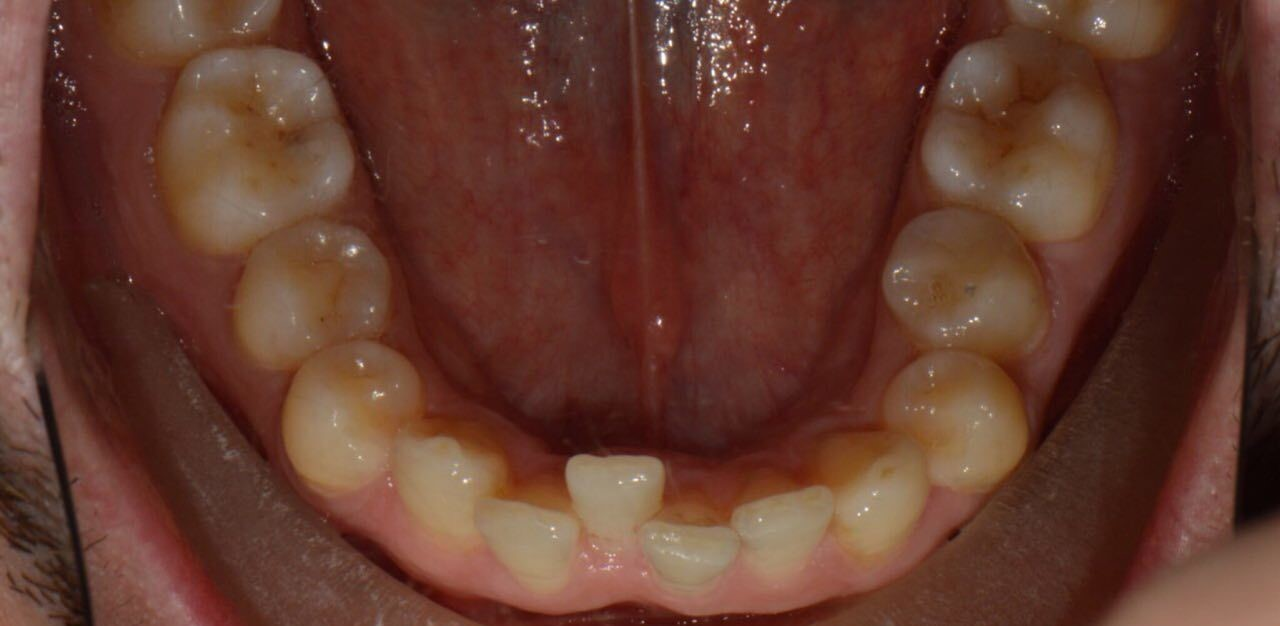LL1BC_healthy: (886, 351, 1024, 488)
LL1M_decay: (923, 35, 1113, 232)
LL2BC_healthy: (885, 209, 1046, 352)
LLCI_healthy: (656, 505, 736, 582)
LLC_healthy: (826, 438, 927, 556)
LLLI_healthy: (736, 483, 830, 571)
LR1BC_healthy: (283, 341, 422, 489)
LR1M_decay: (162, 46, 354, 246)
LR2BC_healthy: (235, 227, 388, 363)
LRCI_healthy: (568, 454, 662, 538)
LRC_healthy: (394, 423, 501, 532)
LRLI_healthy: (486, 492, 575, 589)
